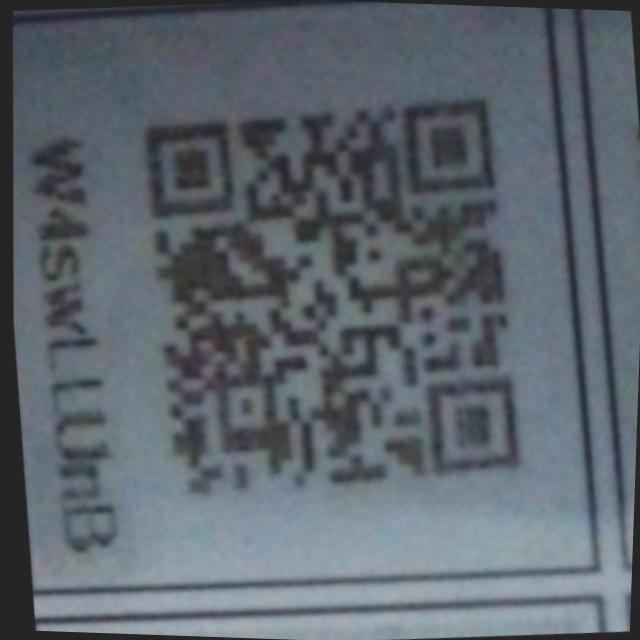QRCode: (109, 70, 551, 542)
